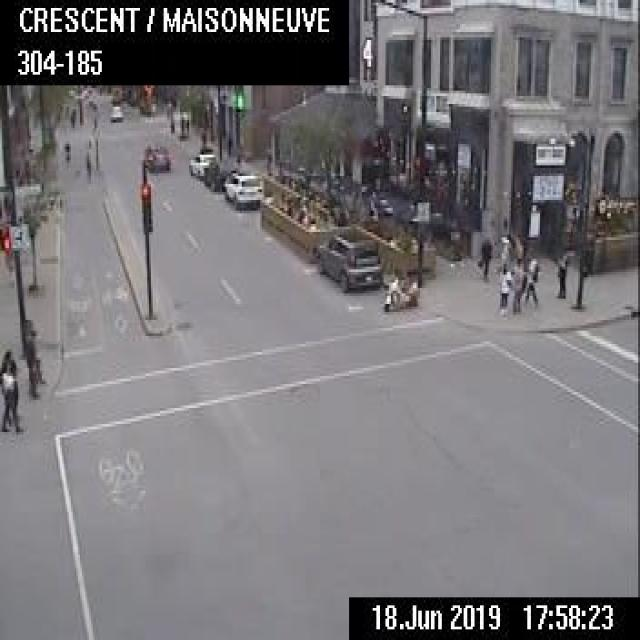cyclist: (62, 139, 71, 168), (84, 150, 91, 180), (69, 106, 75, 127)
pedestrian: (0, 363, 22, 429), (24, 326, 37, 396), (496, 259, 511, 315), (474, 234, 491, 277), (523, 253, 537, 304), (555, 248, 567, 296), (512, 254, 521, 310), (0, 345, 15, 372), (225, 134, 231, 154), (179, 115, 183, 134), (184, 116, 188, 134)
vehicle: (316, 230, 382, 289), (222, 170, 262, 208), (382, 273, 418, 308), (202, 158, 237, 189), (143, 142, 169, 170), (188, 150, 215, 176), (109, 102, 122, 120)
